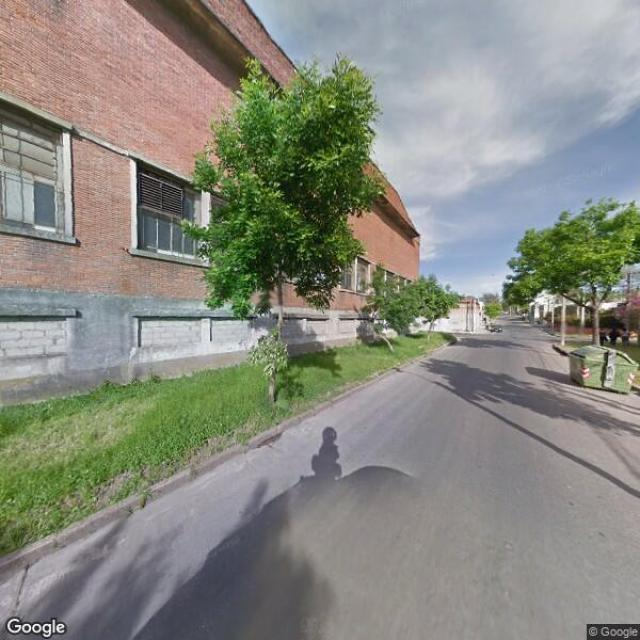garbage container: (561, 337, 640, 406)
